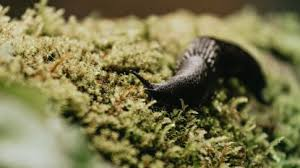slug: (150, 36, 252, 110)
